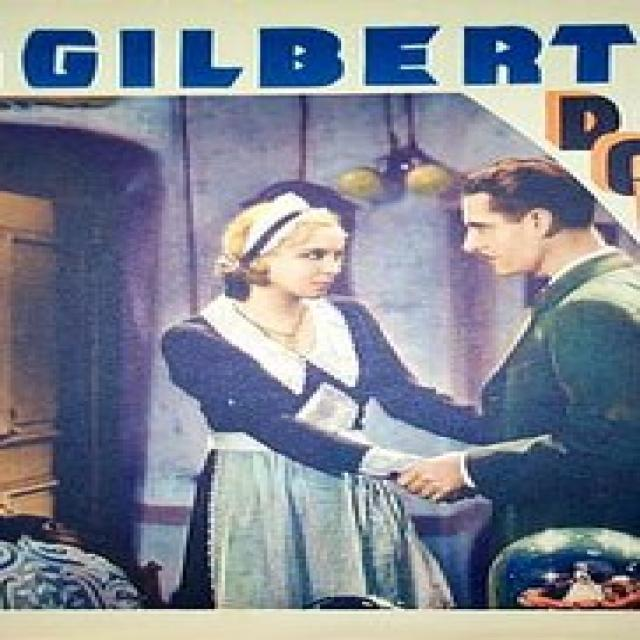movie-judul: (20, 14, 640, 100)
picture: (0, 96, 640, 612)
